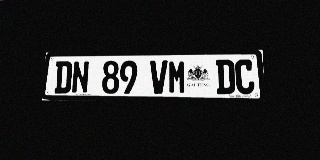8: (102, 61, 120, 94)
9: (119, 60, 138, 94)
C: (235, 59, 255, 94)
D: (216, 60, 235, 94), (54, 61, 72, 94)
M: (168, 60, 186, 94)
N: (71, 61, 90, 94)
V: (150, 60, 168, 94)
